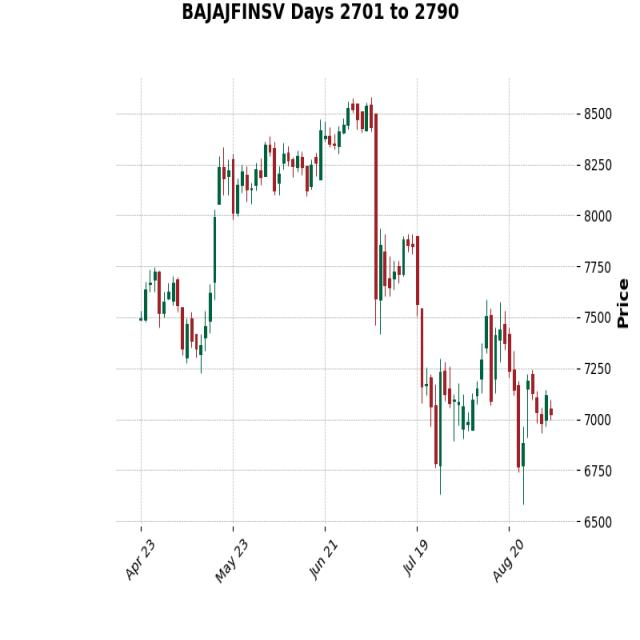Double Top: (299, 76, 407, 196)
